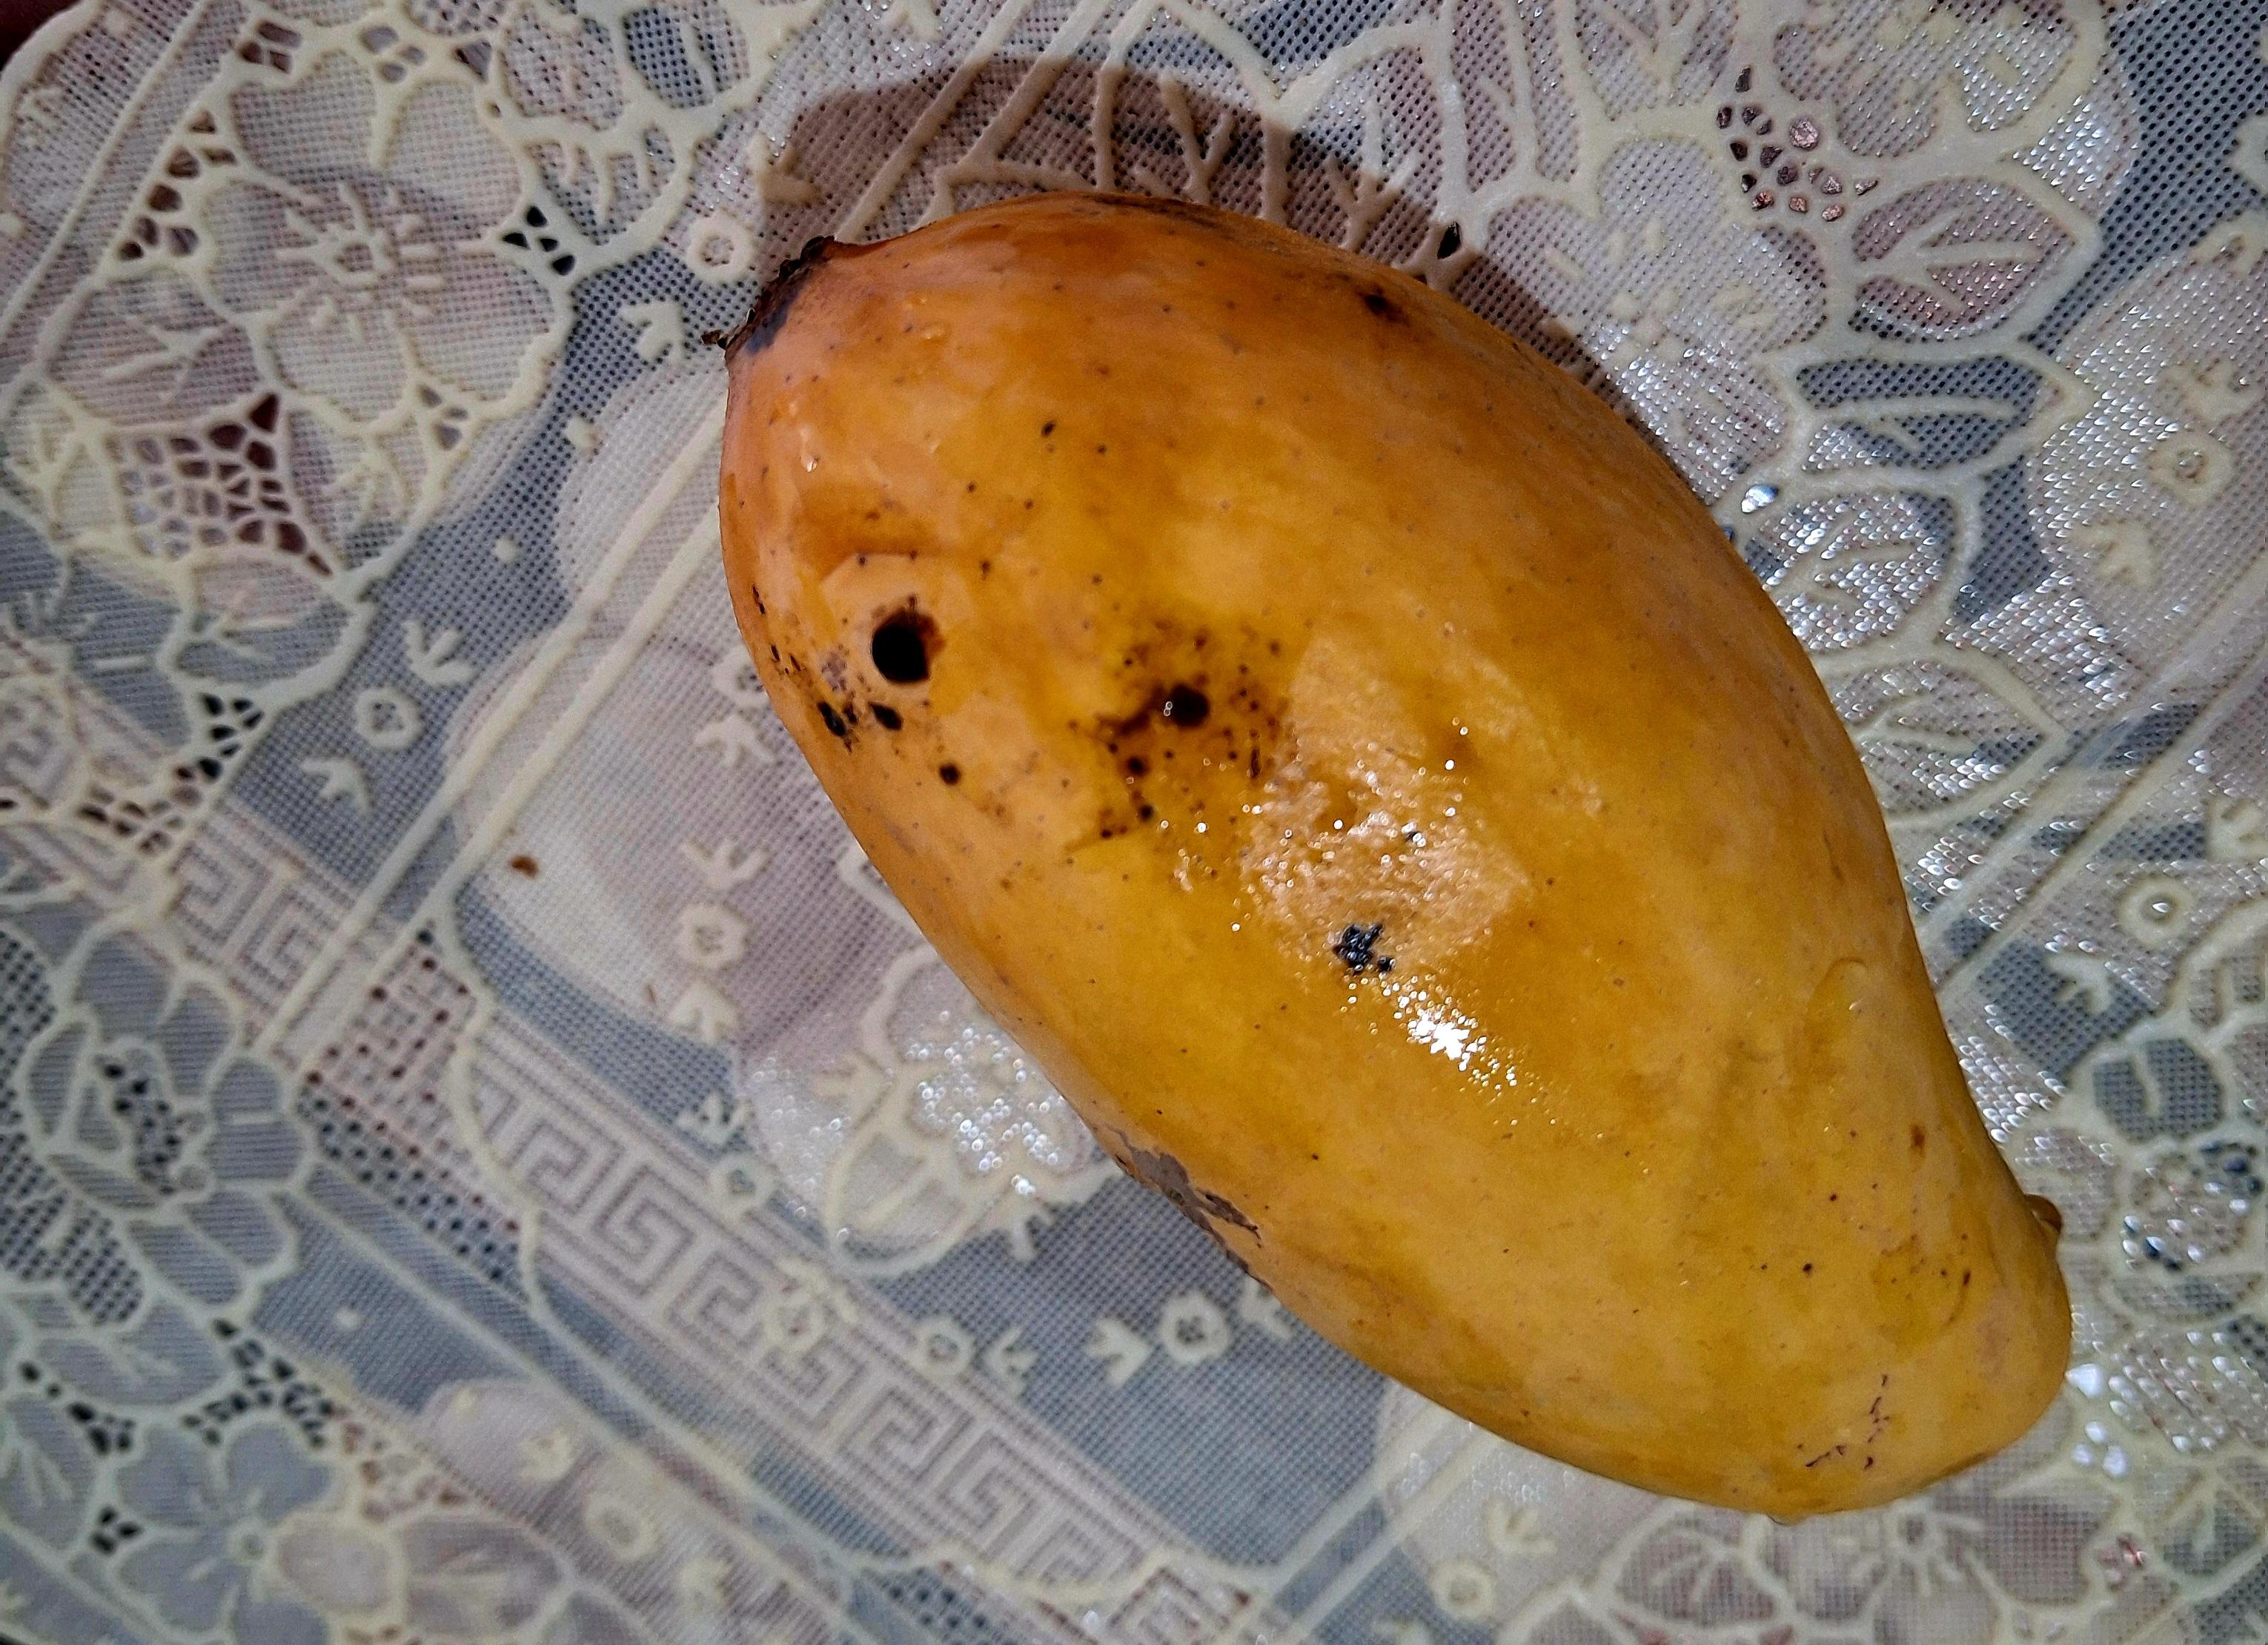mango: (715, 187, 2074, 1523)
